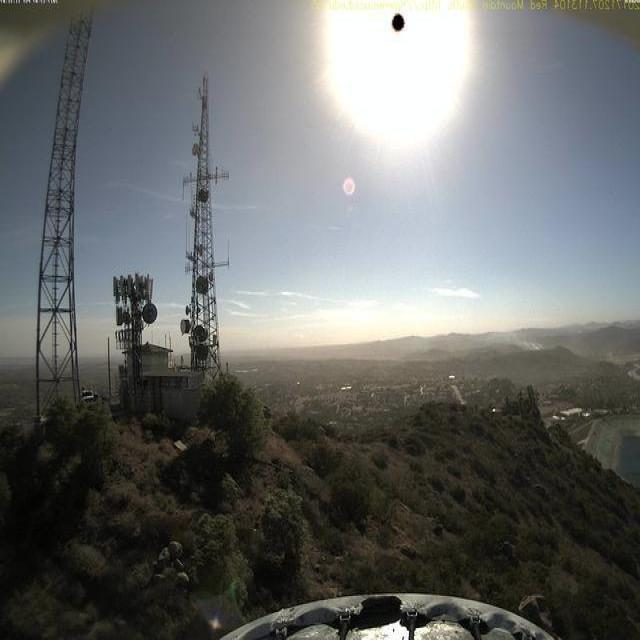Smoke: (472, 311, 550, 354)
